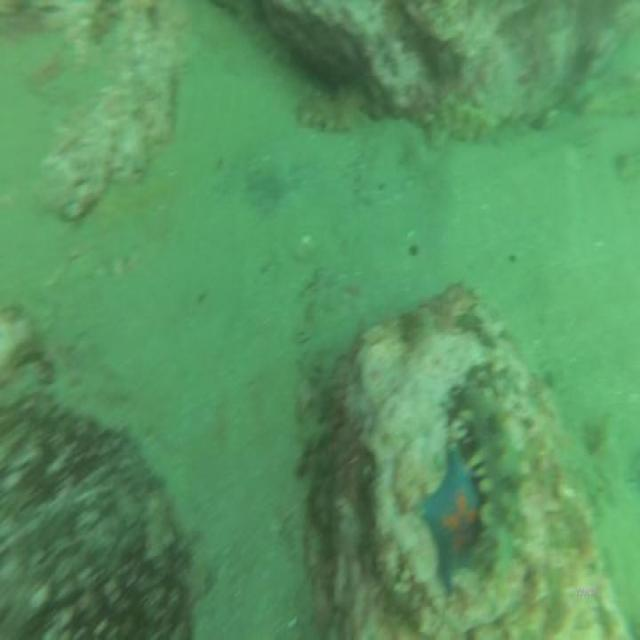holothurian: (454, 376, 534, 578), (429, 84, 503, 156), (294, 77, 369, 136)
starfish: (415, 439, 486, 599)
